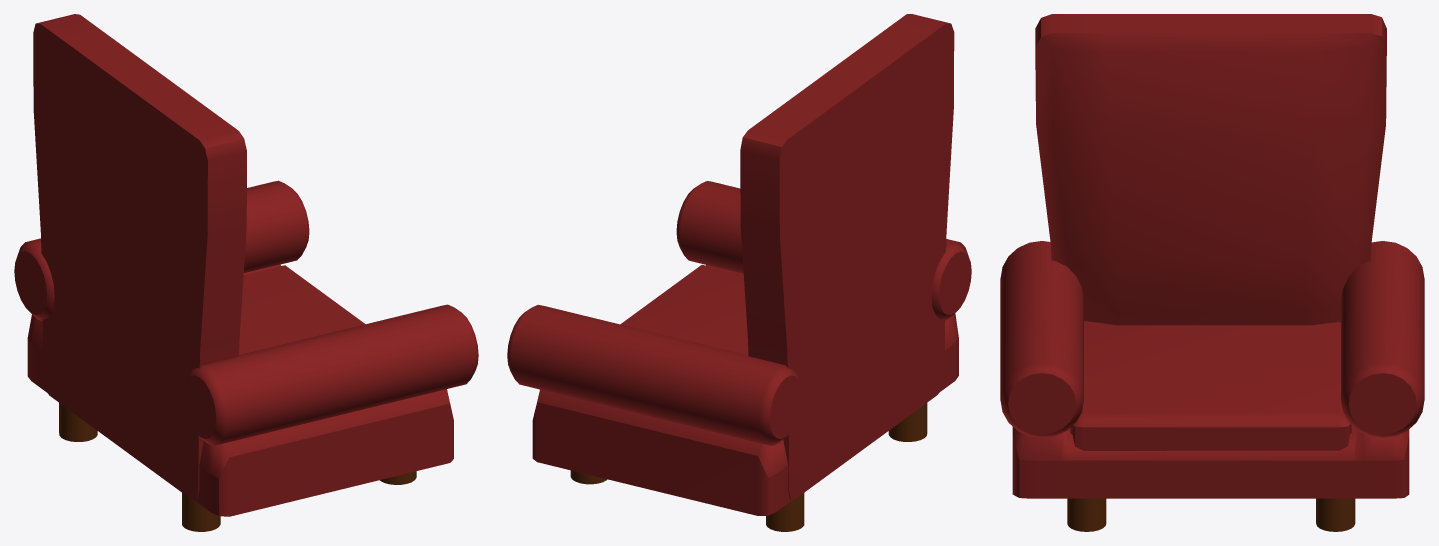
File: Chill chair1.fbx
The picture shows the model from 3 angles, left to right: view 1: azimuth 30°, elevation 25°; view 2: azimuth 150°, elevation 25°; view 3: azimuth 270°, elevation 25°; orthographic projection.
Parts seen in each view (by area): view 1: chill_chair_1; view 2: chill_chair_1; view 3: chill_chair_1.
Part boxes in pixels (<box>): chill_chair_1: <box>14,14,478,531</box>; chill_chair_1: <box>507,14,971,531</box>; chill_chair_1: <box>1000,14,1424,531</box>.
Size of the model in its own units: 7.23 by 10.59 by 10.07.
